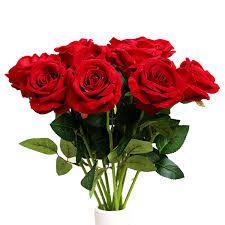lale: (73, 58, 126, 121), (131, 54, 184, 110), (23, 54, 69, 118), (108, 31, 178, 65), (176, 51, 217, 109), (58, 34, 106, 56)
